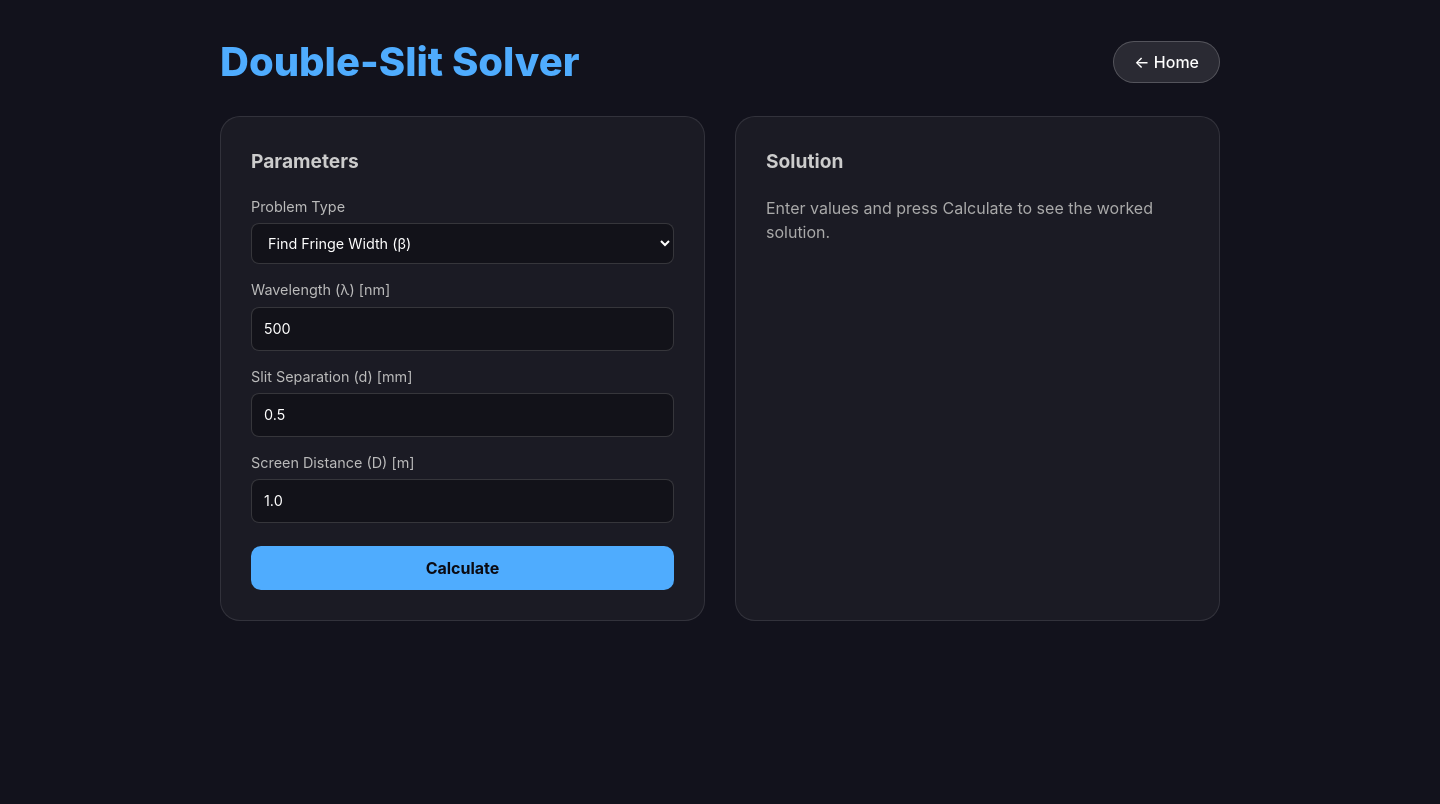
Test: Simulate this › opens the wave lab with the solved λ, d and D
Expected: the heading "Double-Slit Solver" is shown, [220,40,580,84]
Step 1. Click the button "Calculate" → coordinates (462, 568), box [251,546,674,590]
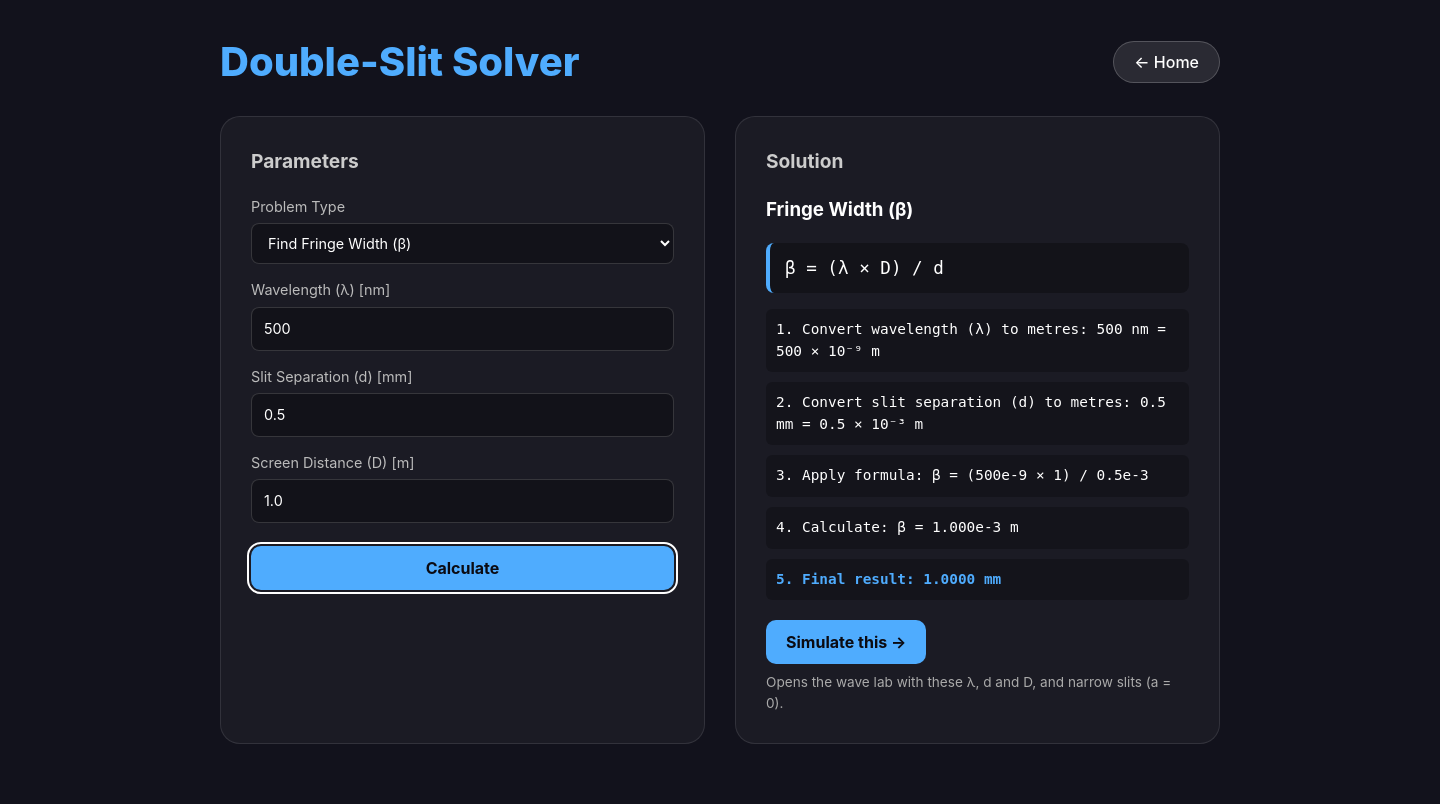
Step 2. Click the link "Simulate this →" → coordinates (846, 642), box [766,620,926,664]
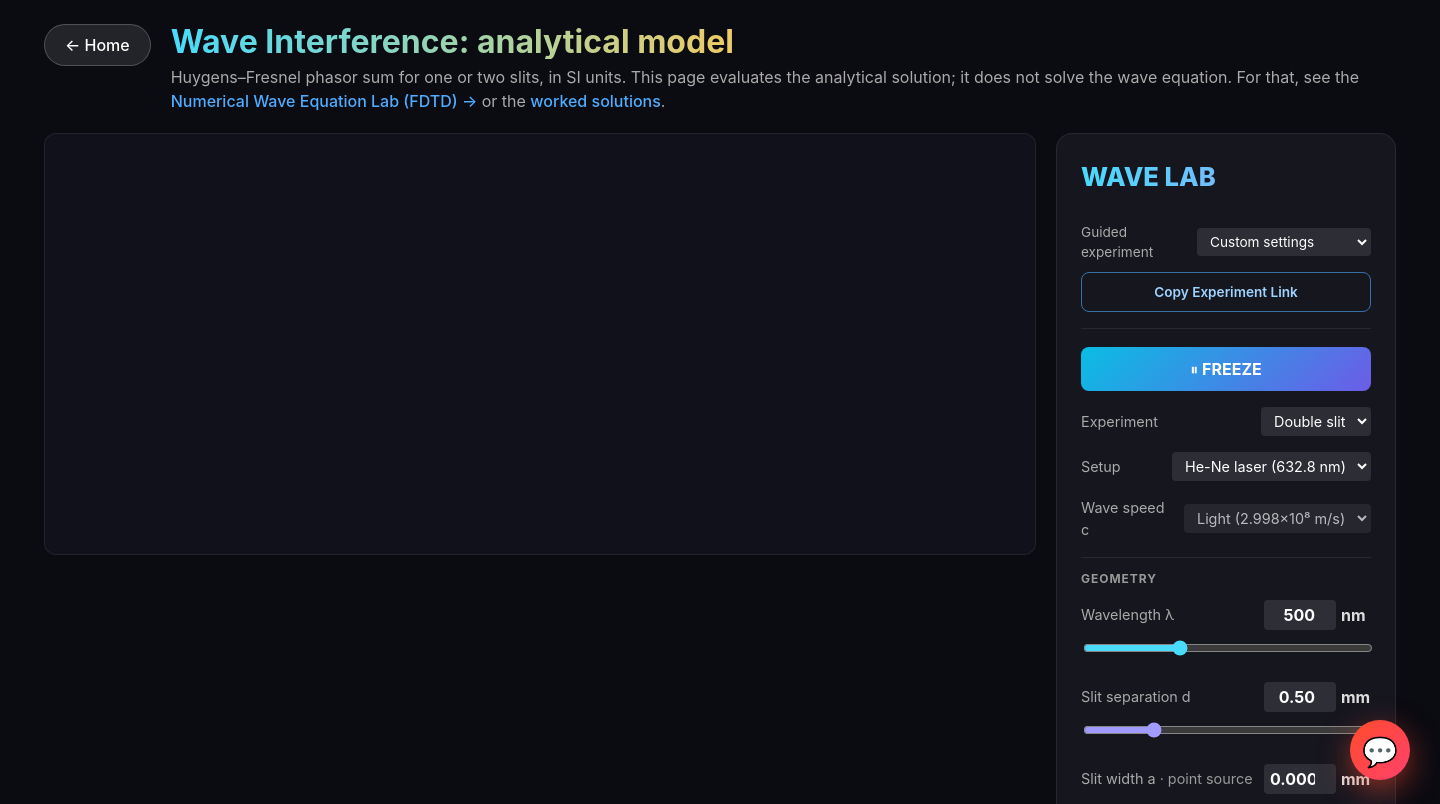
Expected: the heading "Wave Interference: analytical model" is shown, [171,24,1396,59]
Expected: the dropdown labelled "Setup" shows "He-Ne laser (632.8 nm)", [1172,452,1371,481]
